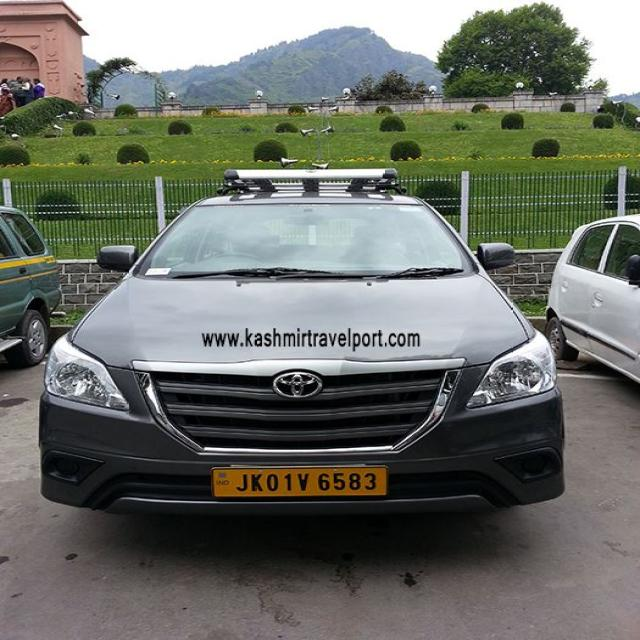plate: (206, 456, 399, 504)
